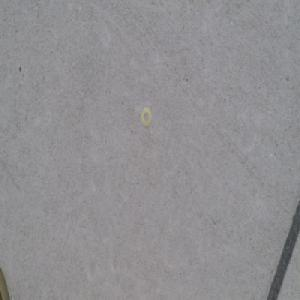Washer: (140, 107, 151, 128)
